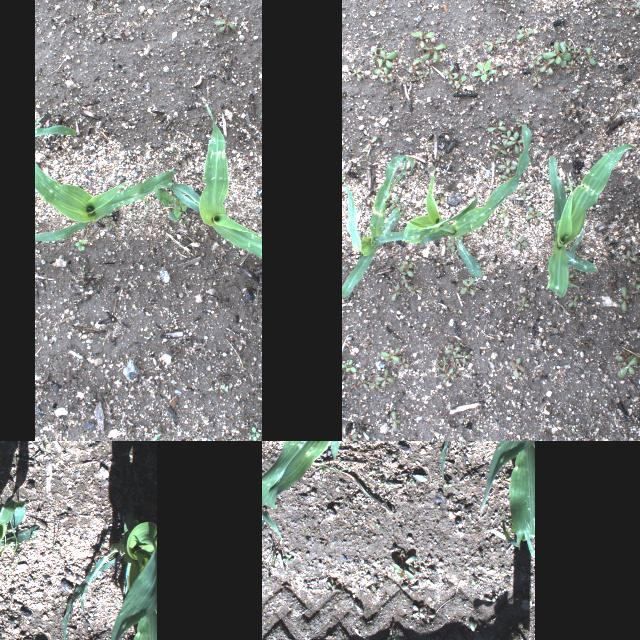crop: (406, 122, 530, 278), (34, 113, 172, 241), (169, 101, 262, 266), (262, 441, 418, 538), (544, 142, 636, 298), (62, 515, 156, 640), (440, 441, 534, 558), (342, 152, 412, 296)
weed: (7, 518, 38, 578), (155, 188, 189, 224), (389, 547, 419, 579), (418, 32, 446, 62), (612, 350, 638, 380), (318, 460, 352, 482), (456, 274, 482, 300), (468, 60, 498, 82), (0, 534, 11, 592), (444, 64, 468, 88), (544, 42, 570, 62), (509, 24, 538, 41), (524, 202, 544, 226), (394, 472, 428, 486), (506, 356, 524, 382), (345, 62, 365, 84), (375, 368, 397, 388), (379, 346, 403, 364), (618, 280, 630, 312), (498, 208, 510, 240), (583, 42, 597, 68), (616, 250, 636, 268), (361, 134, 382, 150), (626, 269, 640, 292), (216, 17, 236, 33), (514, 290, 528, 312), (512, 235, 530, 251), (498, 156, 514, 174), (389, 405, 399, 433), (482, 37, 502, 51), (506, 131, 520, 151), (141, 429, 163, 441), (516, 183, 532, 199), (492, 142, 508, 158), (469, 621, 483, 639), (29, 441, 51, 452), (400, 580, 420, 592), (264, 550, 276, 570), (74, 237, 90, 251), (343, 360, 357, 376), (396, 356, 410, 372), (399, 260, 413, 276), (380, 50, 394, 66), (410, 604, 426, 618), (487, 120, 505, 132), (345, 428, 361, 441), (568, 293, 582, 307), (530, 54, 542, 70), (325, 580, 341, 592), (532, 75, 546, 88), (164, 420, 176, 434), (540, 60, 554, 72), (566, 42, 578, 56), (378, 68, 390, 82), (390, 284, 400, 300), (277, 552, 285, 572), (501, 131, 514, 143), (457, 350, 469, 362), (422, 610, 434, 622), (262, 534, 268, 558), (250, 425, 260, 439), (364, 374, 374, 388), (441, 368, 455, 378), (438, 356, 448, 370), (631, 0, 640, 15), (444, 343, 458, 352), (103, 216, 113, 228), (219, 382, 231, 392), (409, 60, 419, 72), (399, 434, 415, 441), (407, 285, 421, 293), (449, 355, 458, 367), (400, 296, 410, 306), (302, 580, 312, 590), (369, 47, 377, 59), (482, 596, 498, 602), (400, 276, 410, 284), (387, 626, 395, 634), (284, 554, 292, 562), (403, 78, 411, 84), (472, 580, 480, 586), (441, 484, 451, 486)
